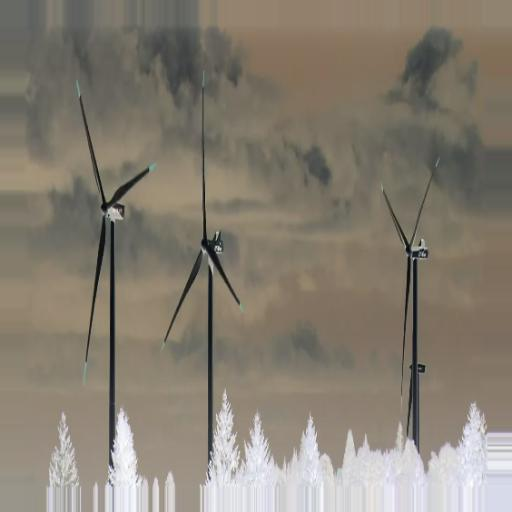wind turbine: (159, 70, 246, 462), (76, 77, 157, 479), (376, 154, 443, 458)
